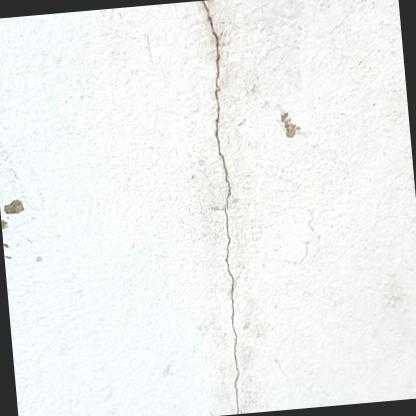crack: (199, 5, 243, 415)
